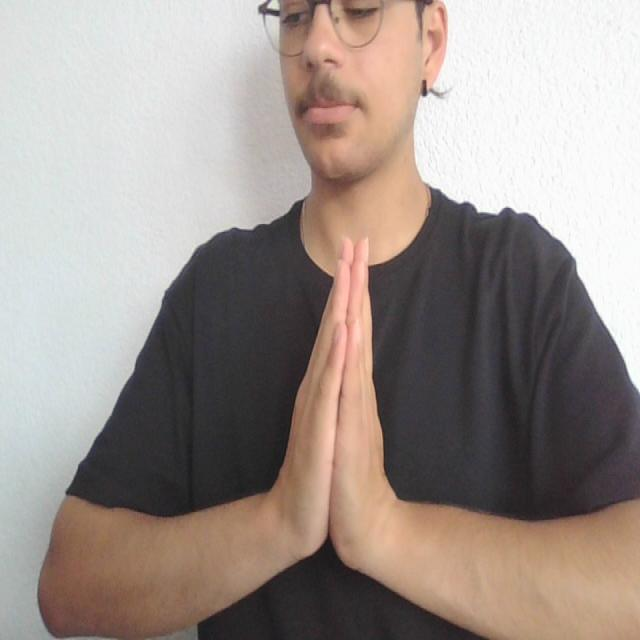Ozur-Dilemek: (264, 227, 402, 594)
